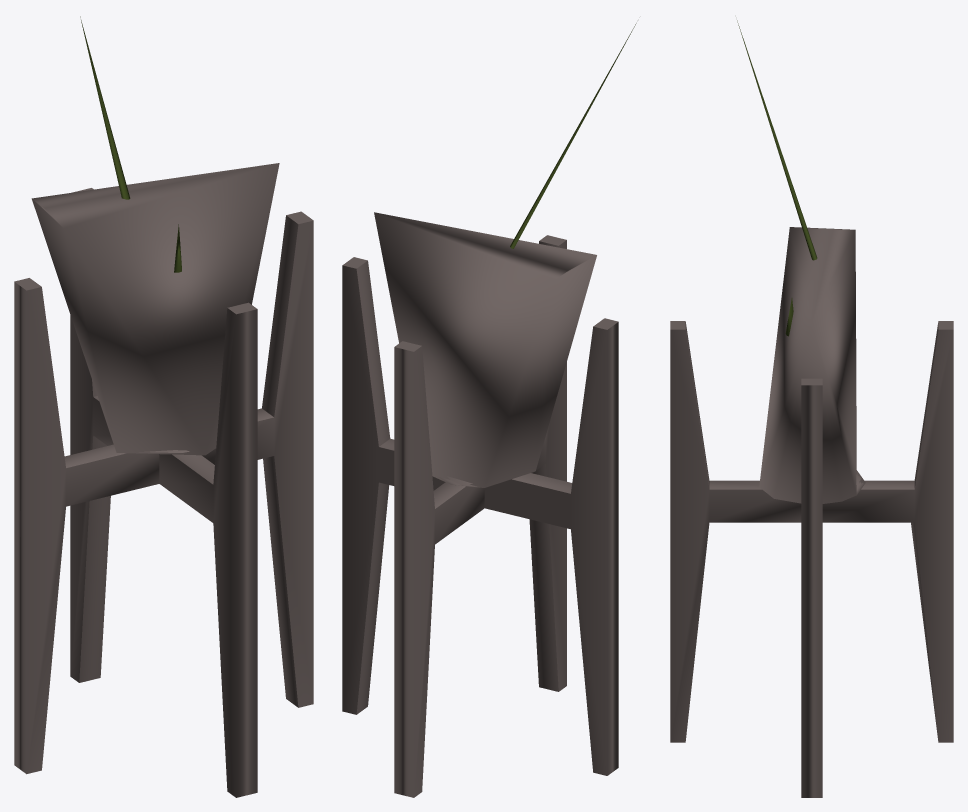
The model's file is monstera.lod1.glb.
The picture shows the model from 3 angles, left to right: view 1: azimuth 30°, elevation 25°; view 2: azimuth 150°, elevation 25°; view 3: azimuth 270°, elevation 25°; orthographic projection. The views are drawn at different scales.
Parts seen in each view (by area): view 1: root_HP_1_Mat.2_0; view 2: root_HP_1_Mat.2_0; view 3: root_HP_1_Mat.2_0.
Boxes of the visible parts, left/top/right/bottom form: root_HP_1_Mat.2_0: left=14, top=16, right=313, bottom=797; root_HP_1_Mat.2_0: left=342, top=23, right=636, bottom=797; root_HP_1_Mat.2_0: left=670, top=20, right=953, bottom=797.
Size of the model in its own units: 0.3683 by 0.9624 by 0.3683.
